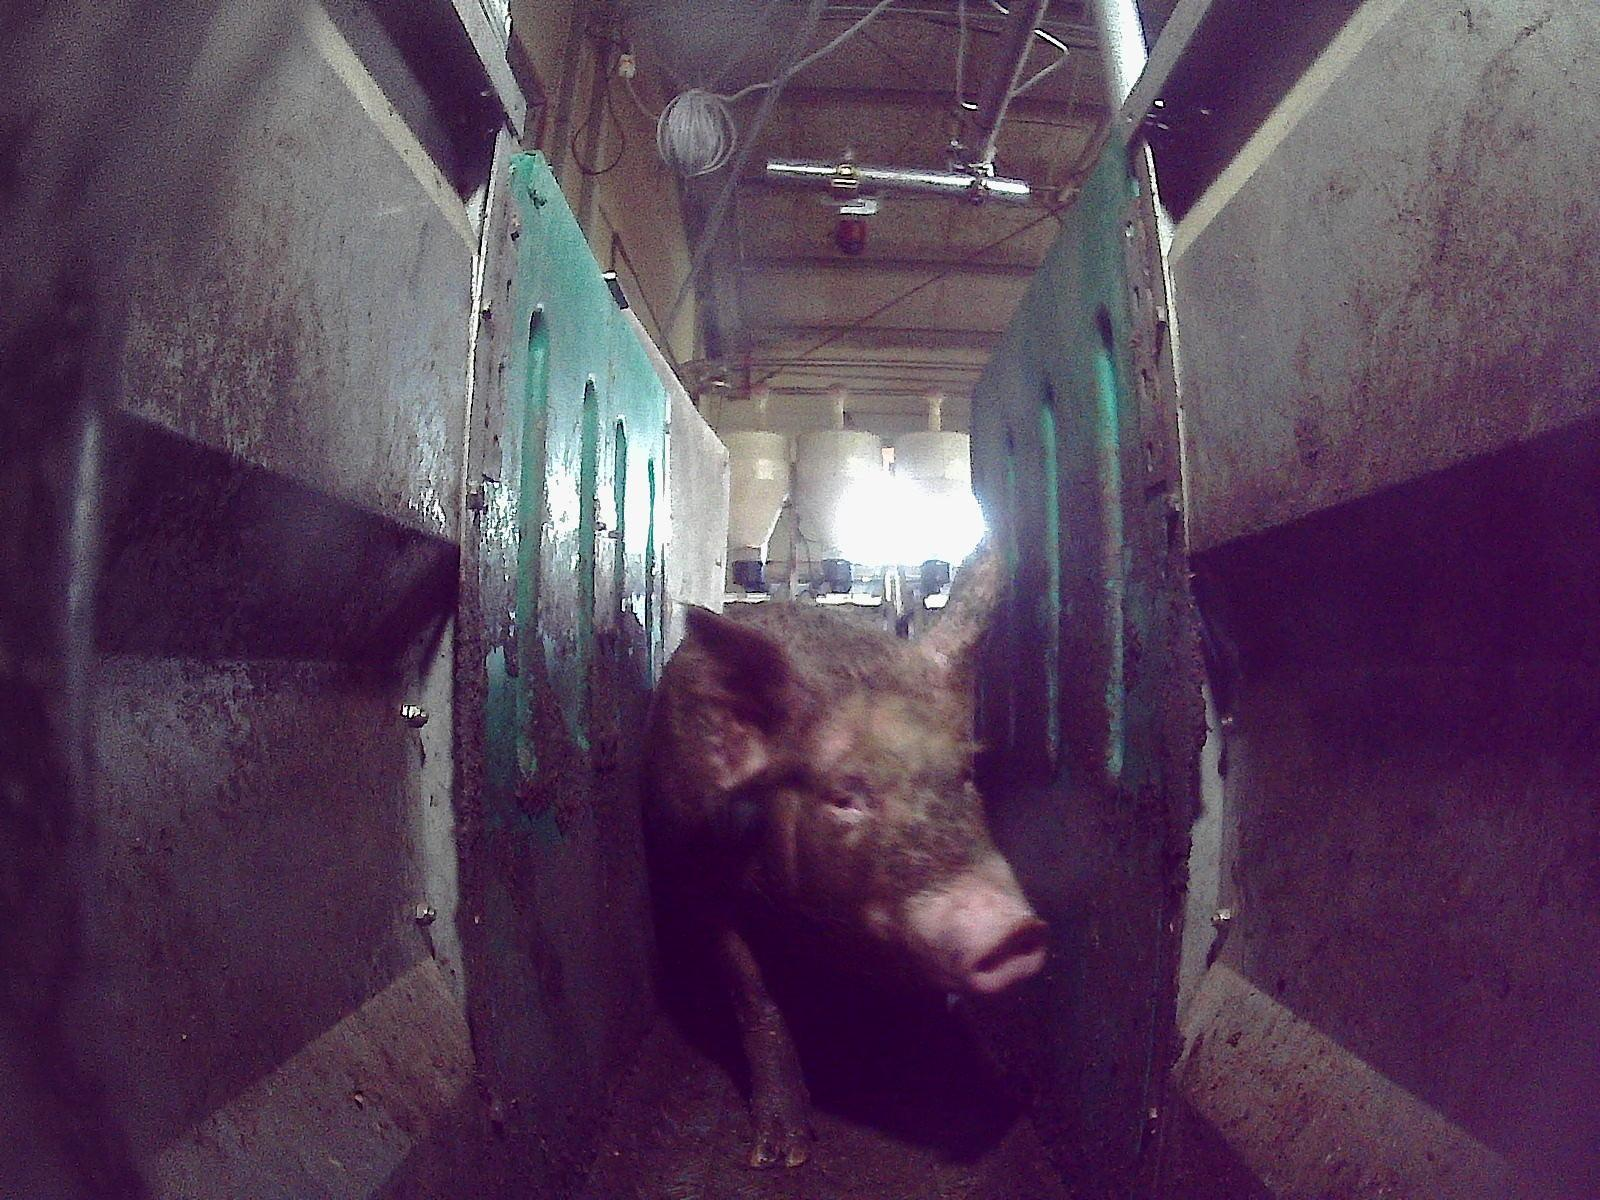Face: (763, 681, 1049, 993)
